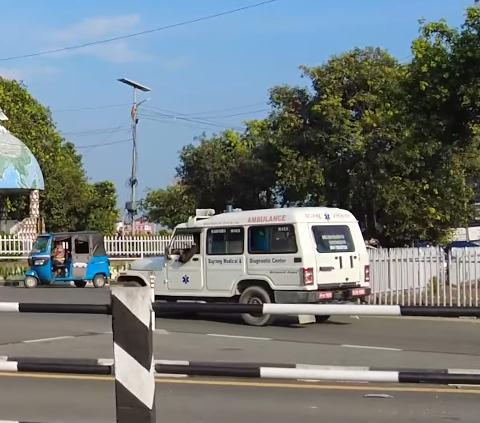ambulance: (121, 204, 372, 333)
auto_rickshaw: (19, 228, 114, 289)
